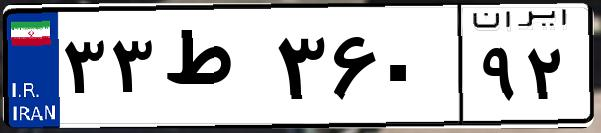0: (385, 28, 445, 110)
2: (525, 38, 570, 115)
3: (270, 28, 330, 110), (57, 26, 110, 100), (110, 28, 158, 98)
6: (330, 28, 385, 110)
9: (475, 38, 525, 113)
ط: (158, 20, 270, 120)
